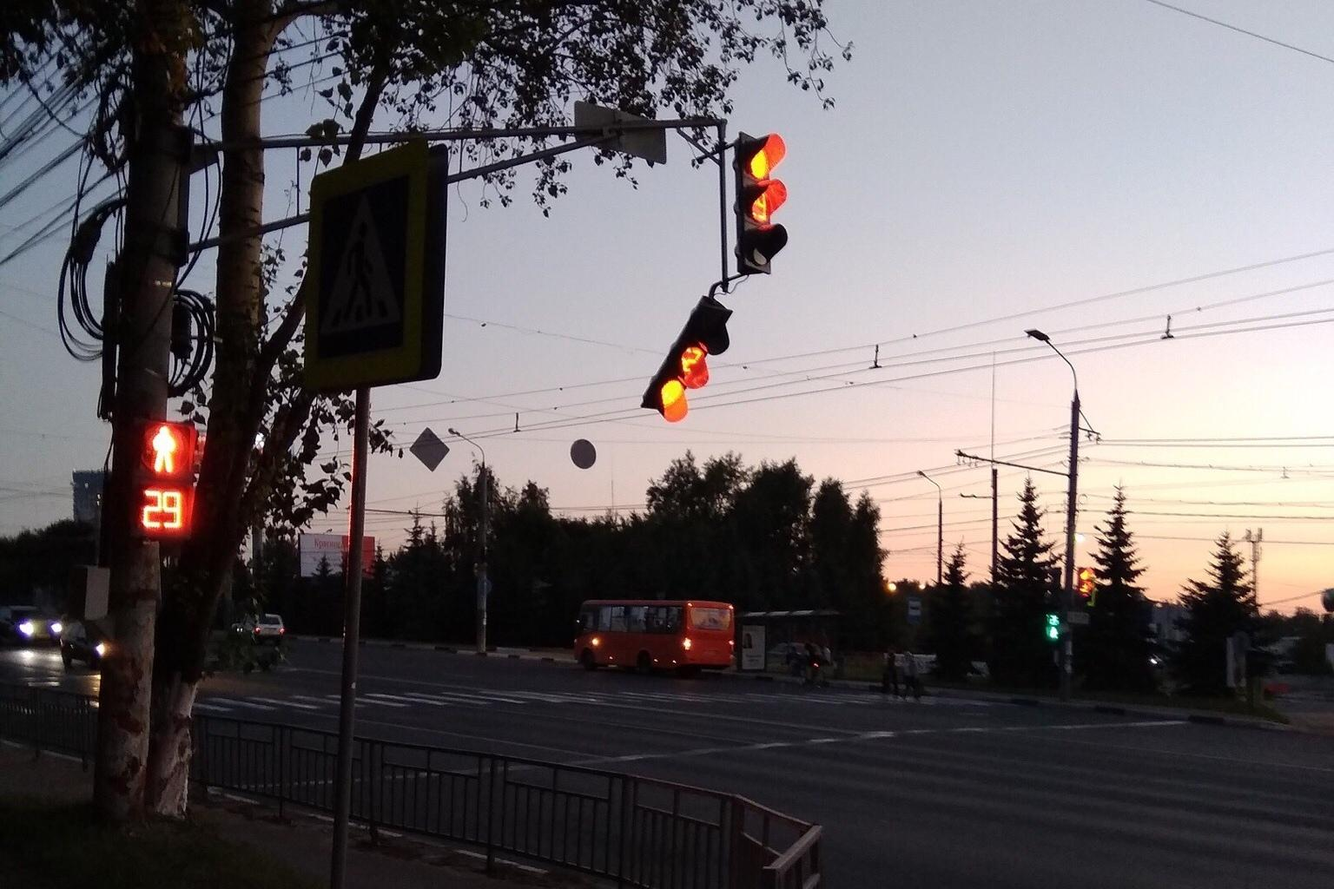road_sign: (307, 144, 420, 386)
traffic light: (641, 294, 732, 420), (734, 131, 787, 274), (138, 420, 194, 539), (1076, 568, 1089, 598), (1047, 614, 1059, 642)
